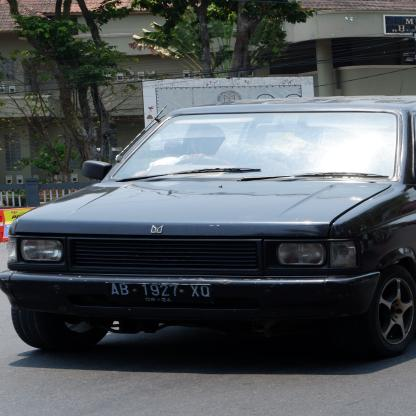Plat-Nomor: (100, 279, 218, 310)
